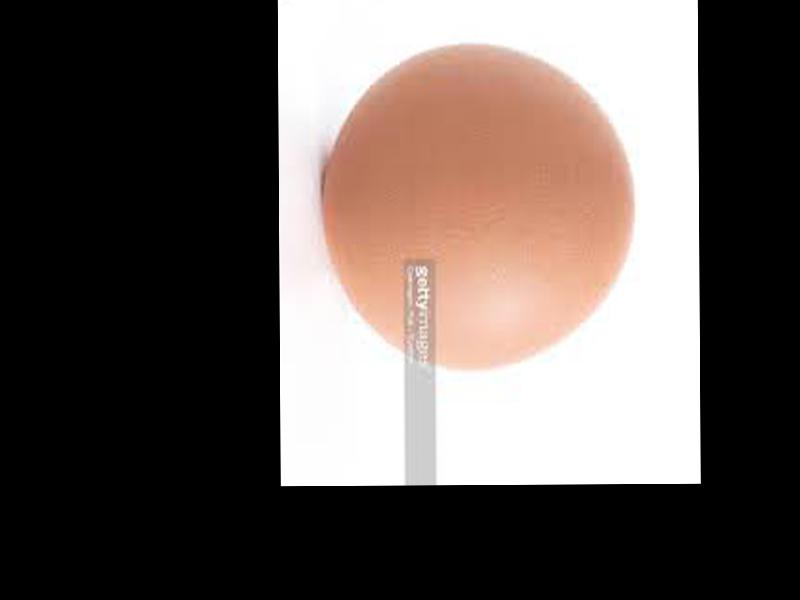Eggs: (328, 43, 636, 371)
